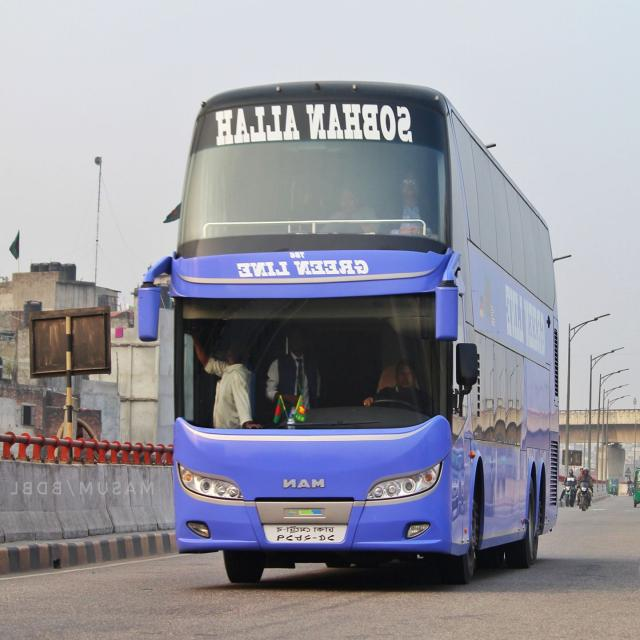Double decker: (129, 62, 562, 597)
